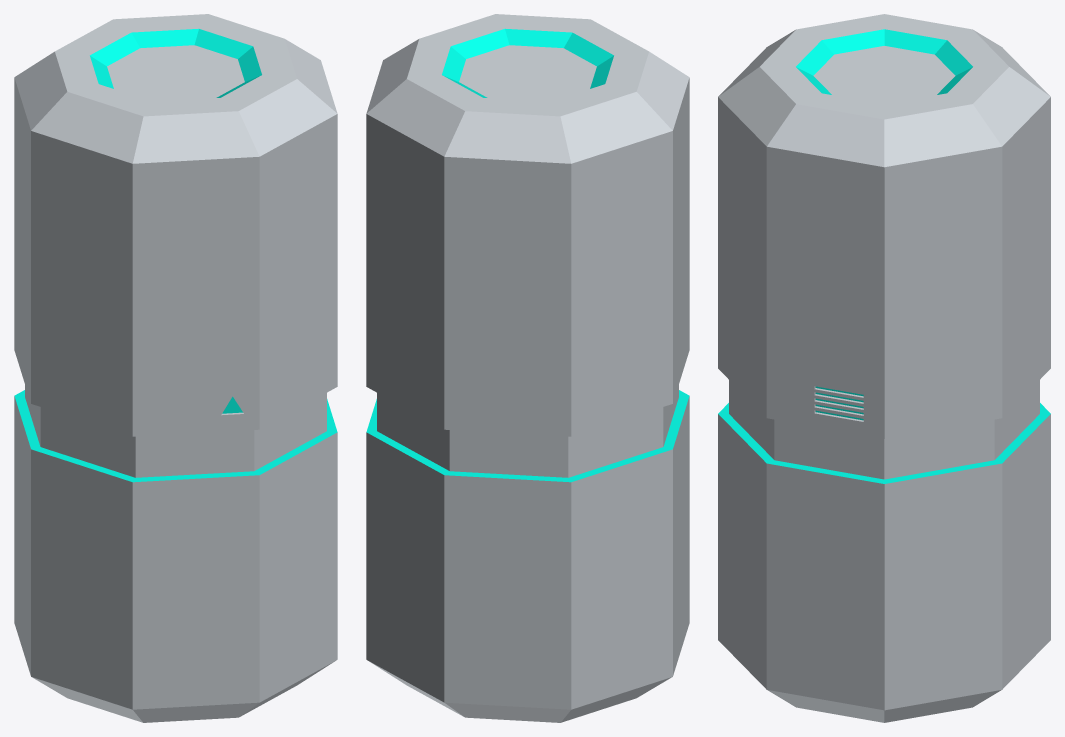
3 views of the same model, side by side, from view 1: azimuth 30°, elevation 25°; view 2: azimuth 150°, elevation 25°; view 3: azimuth 270°, elevation 25° (orthographic).
Visible parts, largest first — view 1: cylinder-02; view 2: cylinder-02; view 3: cylinder-02.
Boxes of the visible parts, left/top/right/bottom form: cylinder-02: left=14, top=14, right=337, bottom=722; cylinder-02: left=366, top=14, right=689, bottom=722; cylinder-02: left=718, top=14, right=1050, bottom=722.
Bounding box in the file's own units: 100 × 200 × 100.
